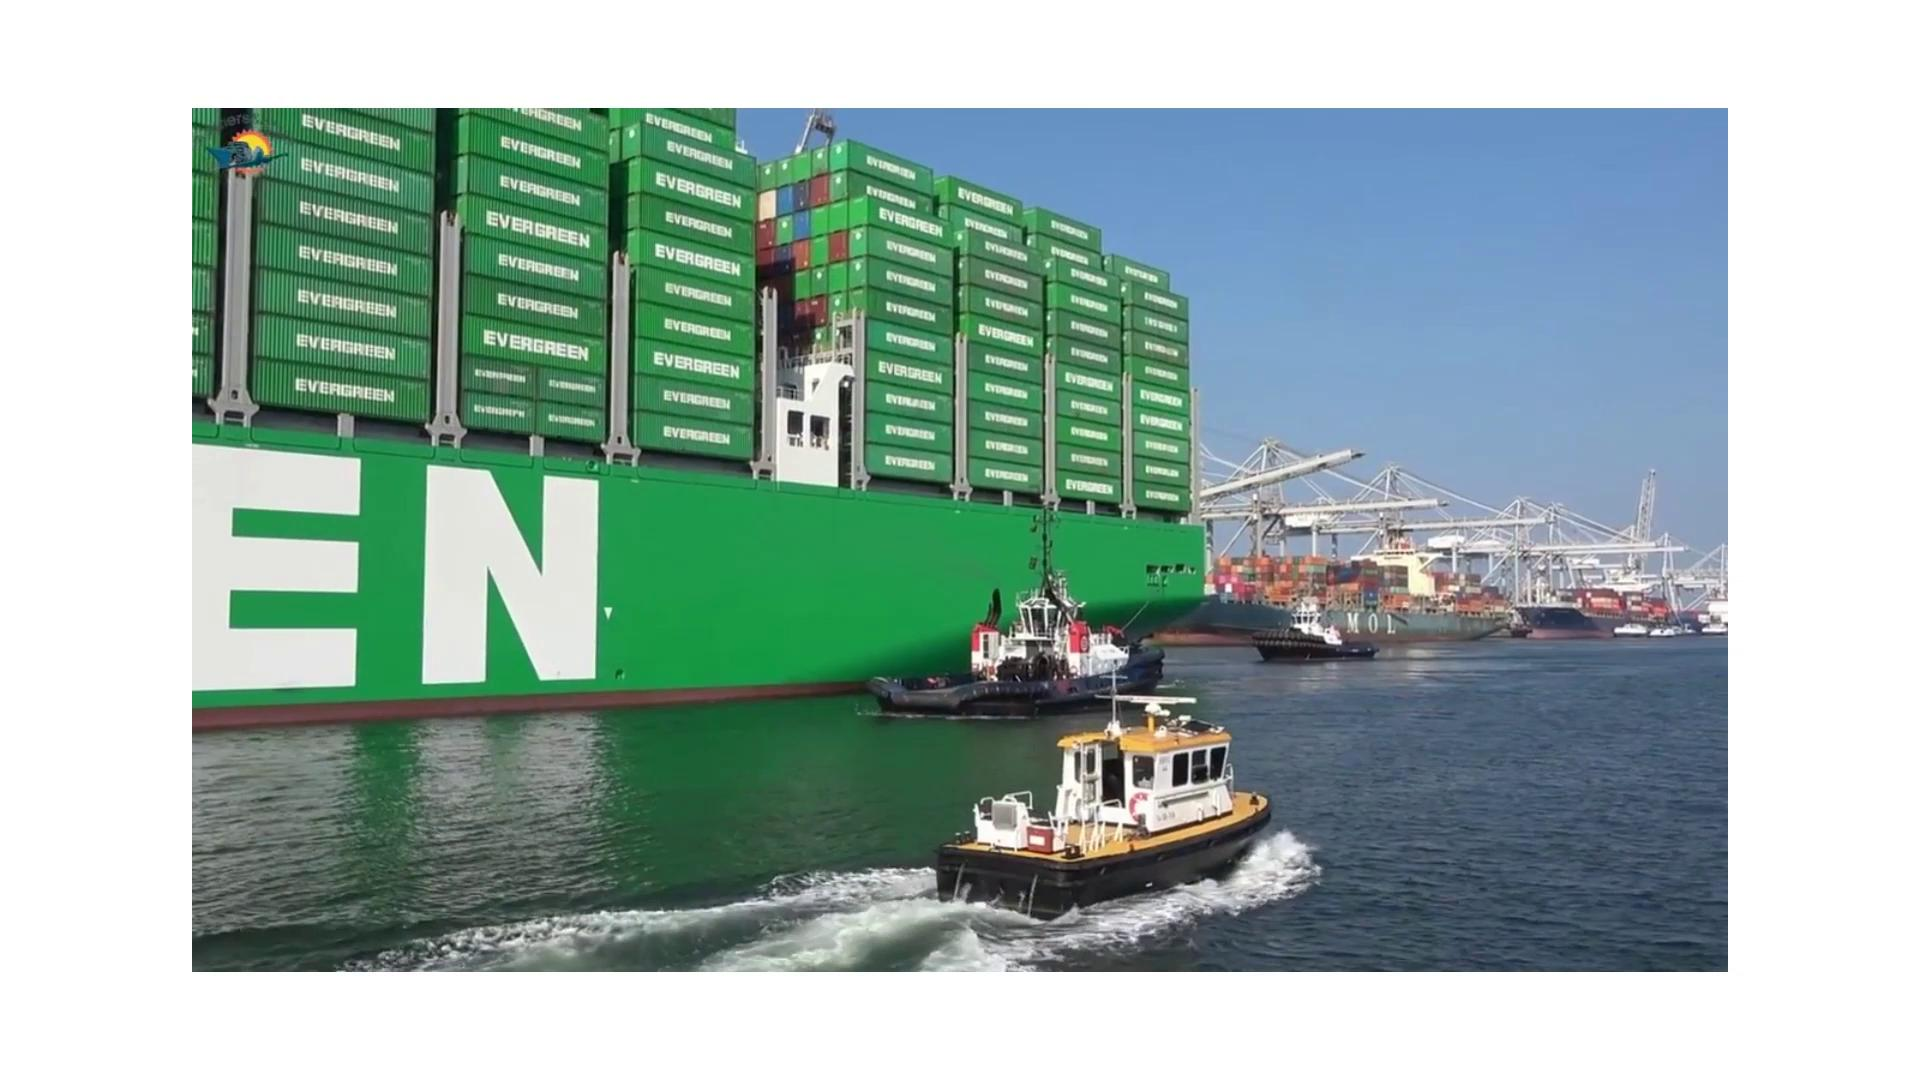OCR: (191, 429, 650, 708)
